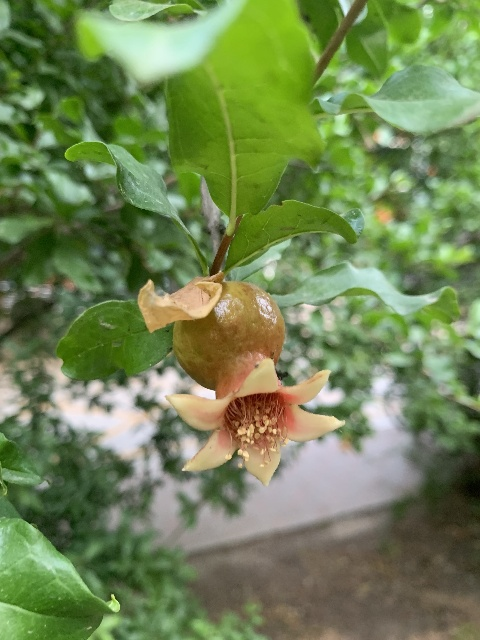early-fruit: (162, 280, 345, 485)
